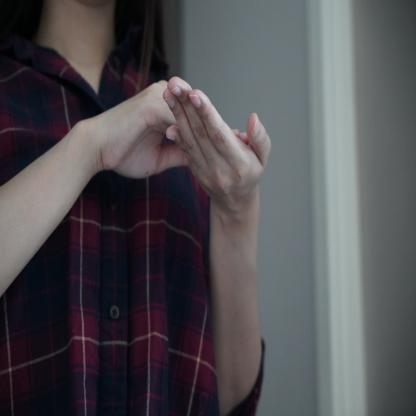Love: (32, 75, 276, 220)
